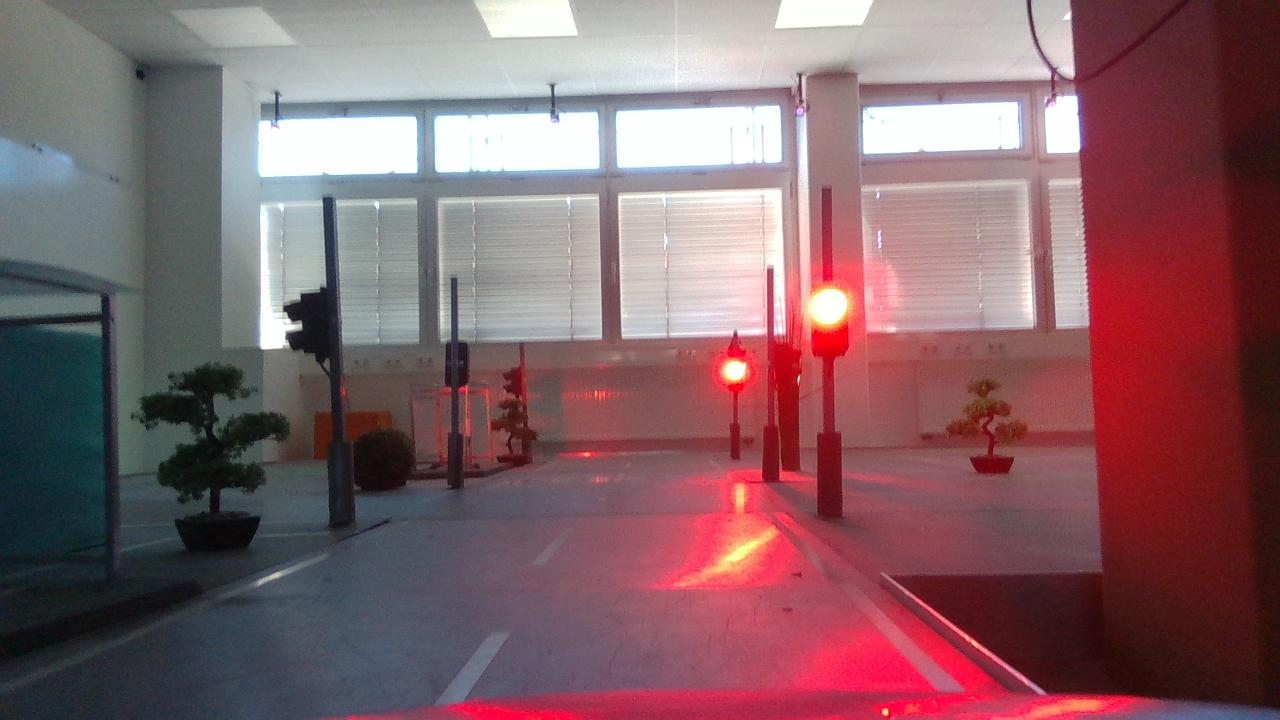traffic_light_red: (801, 284, 862, 375)
